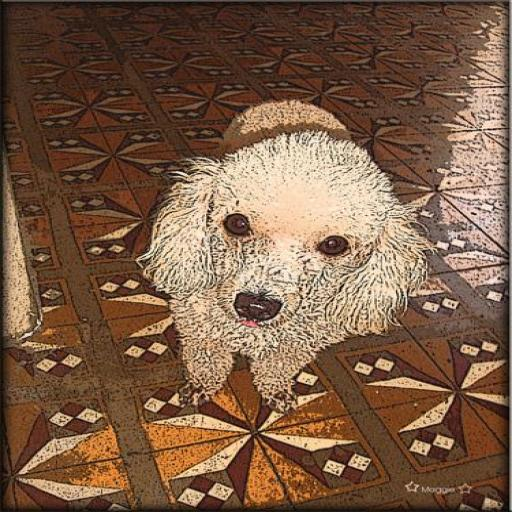dog_face: (160, 135, 422, 328)
